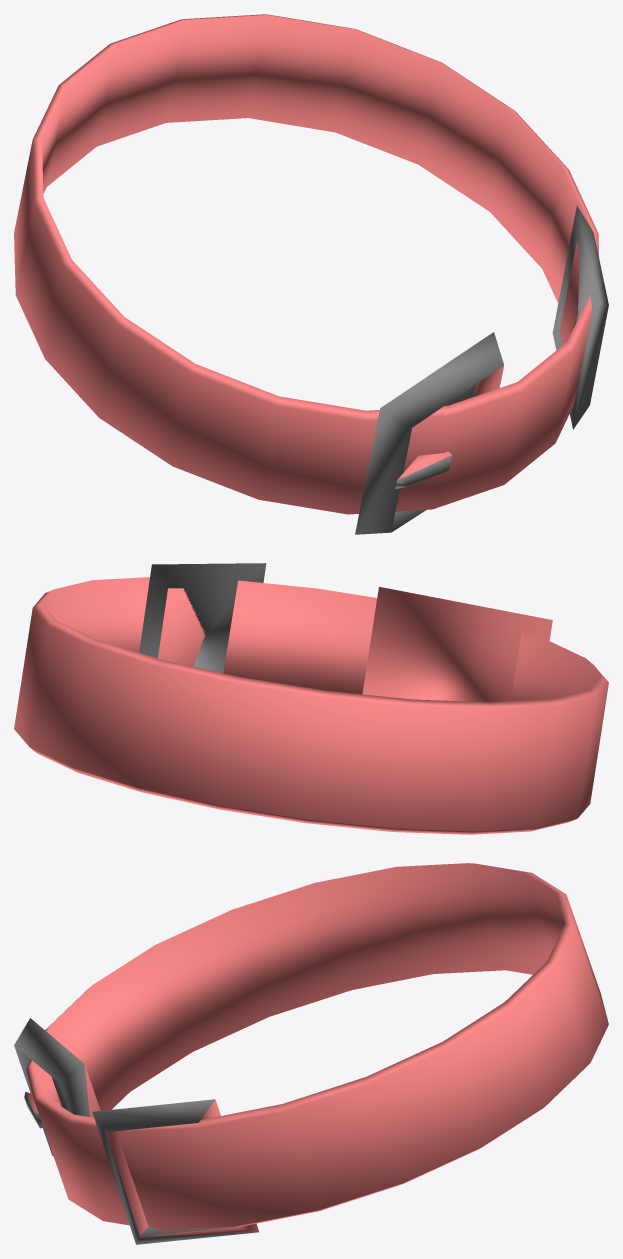
Rendered from LeatherChoker.glb.
The picture shows the model from 3 angles, top to bottom: view 1: azimuth 30°, elevation 25°; view 2: azimuth 150°, elevation 25°; view 3: azimuth 270°, elevation 25°; orthographic projection. The views are drawn at different scales.
Visible parts, largest first — view 1: LeatherCollar_mesh; view 2: LeatherCollar_mesh; view 3: LeatherCollar_mesh.
Boxes of the visible parts, x1,y1,x2,y2 form: LeatherCollar_mesh: (14, 14, 608, 534); LeatherCollar_mesh: (14, 563, 608, 834); LeatherCollar_mesh: (14, 863, 608, 1244).
Size of the model in its own units: 0.098 by 0.0566 by 0.1128.
